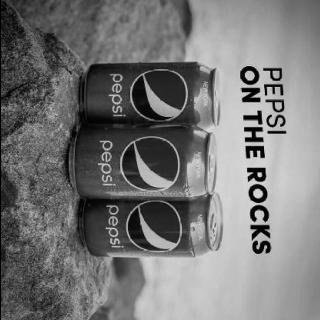alumunium_can: (66, 124, 218, 200), (77, 193, 223, 260), (79, 62, 221, 130)
